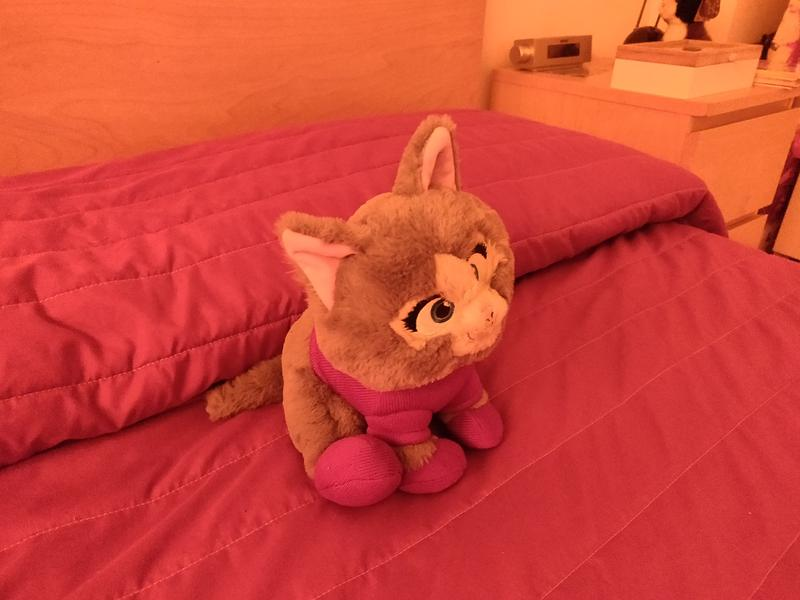kitten: (199, 105, 529, 518)
